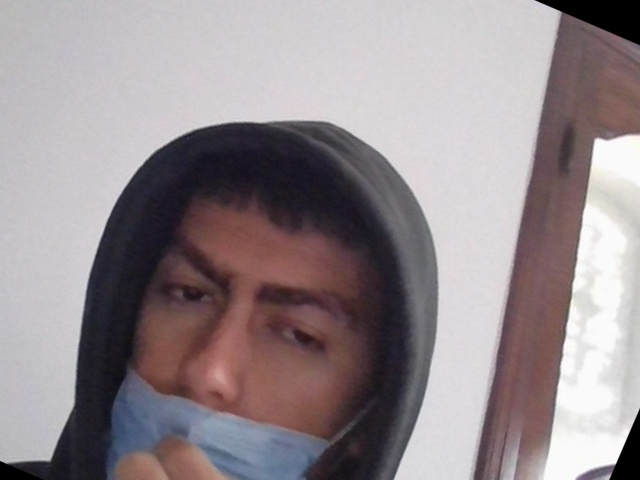mask_weared_incorrect: (103, 148, 369, 480)
